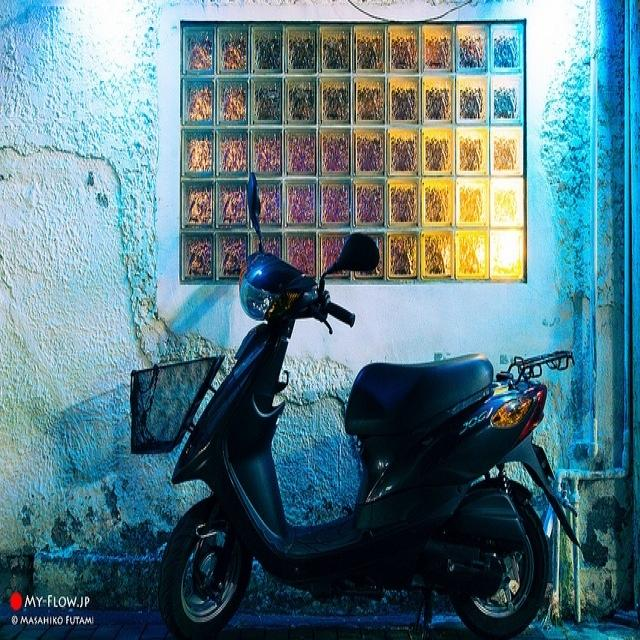scooter: (159, 176, 576, 638)
